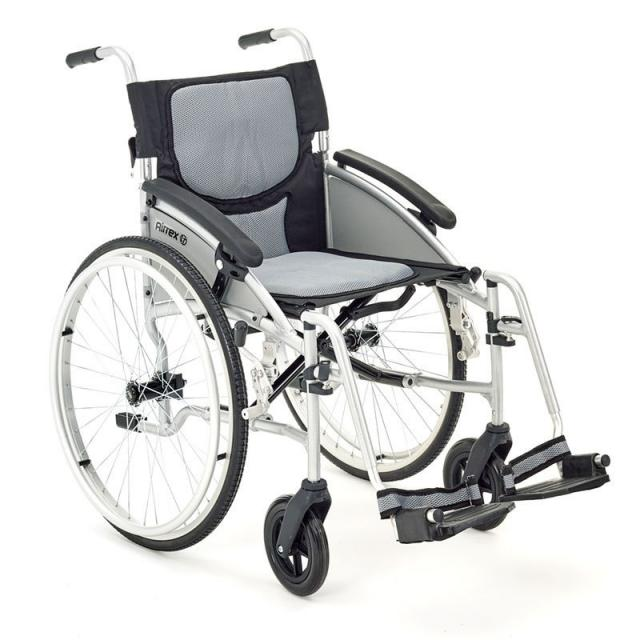wheelchair: (39, 18, 631, 612)
